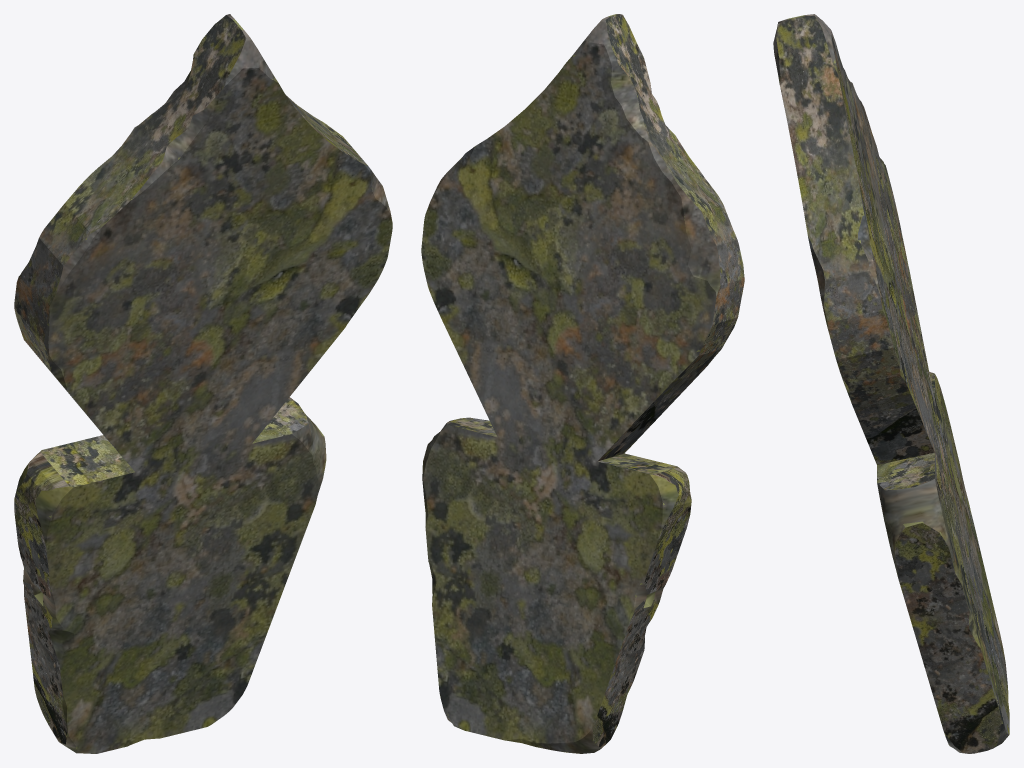
File: BatuNis3.fbx
3 renders of one model, left to right at view 1: azimuth 30°, elevation 25°; view 2: azimuth 150°, elevation 25°; view 3: azimuth 270°, elevation 25°, orthographic. The views are drawn at different scales.
Visible parts, largest first — view 1: Cube.008_dmg.002; view 2: Cube.008_dmg.002; view 3: Cube.008_dmg.002.
Boxes of the visible parts, left/top/right/bottom form: Cube.008_dmg.002: left=14, top=14, right=392, bottom=753; Cube.008_dmg.002: left=421, top=14, right=744, bottom=753; Cube.008_dmg.002: left=773, top=14, right=1009, bottom=753.
Bounding box in the file's own units: 224 × 486 × 147.
